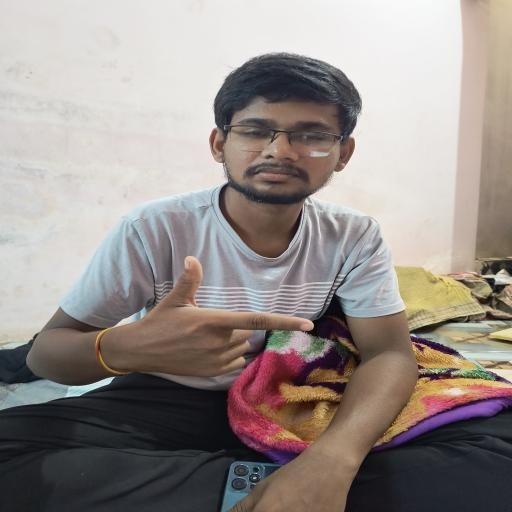OK: (105, 246, 329, 406)
